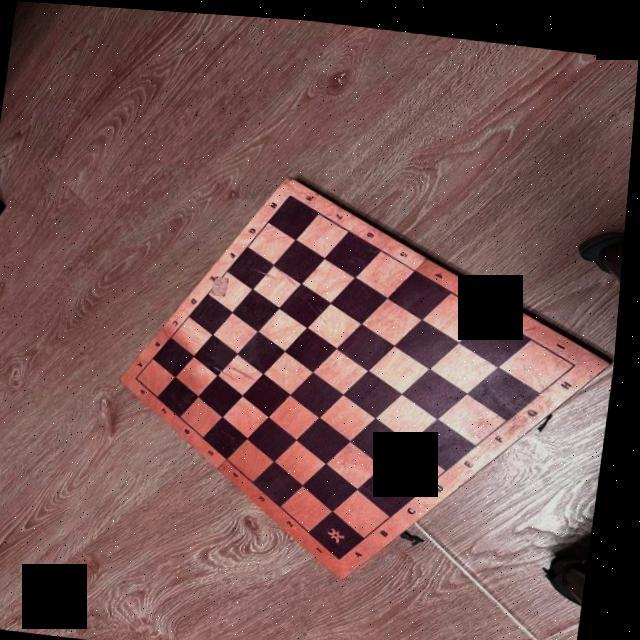chess-table-corners: (341, 546, 356, 558), (573, 350, 585, 362), (288, 186, 298, 195), (138, 371, 148, 379)
